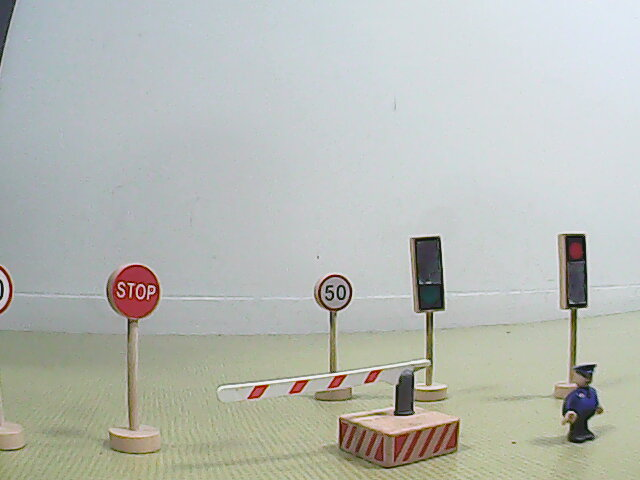barrier: (214, 358, 460, 469)
green_traffic_sign: (411, 238, 444, 313)
person: (560, 364, 605, 445)
red_traffic_sign: (558, 235, 588, 310)
sign_50: (313, 272, 354, 311)
stop_sign: (106, 263, 162, 320)
